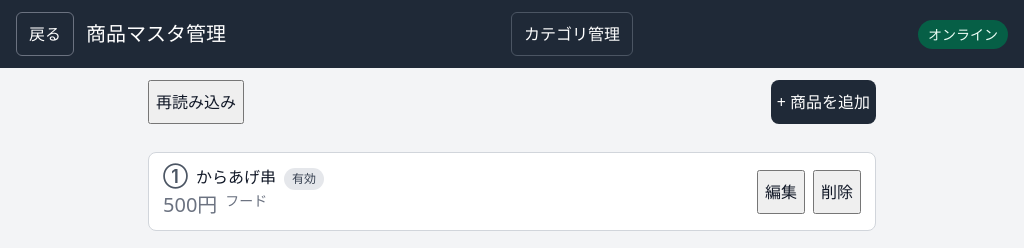
Test: 商品の削除 › 確認ダイアログでOKすると削除し、一覧から消える
Expected: the text "からあげ串" is shown, [196, 165, 276, 189]
Click the button with aria-label "からあげ串を削除". click: (837, 192)
box: [813, 170, 861, 214]
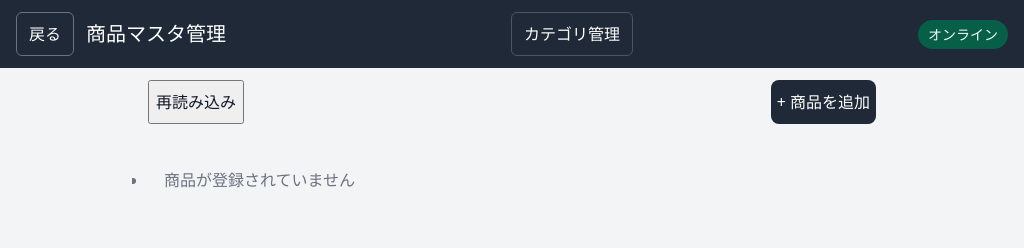
Expected: the text "からあげ串" is gone
